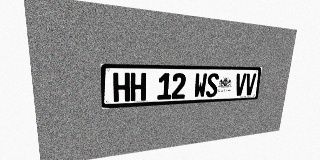1: (157, 73, 172, 100)
2: (171, 73, 186, 99)
H: (113, 73, 130, 102), (130, 73, 146, 101)
S: (206, 73, 219, 97)
V: (234, 73, 247, 96), (244, 73, 256, 95)
W: (193, 73, 207, 98)
